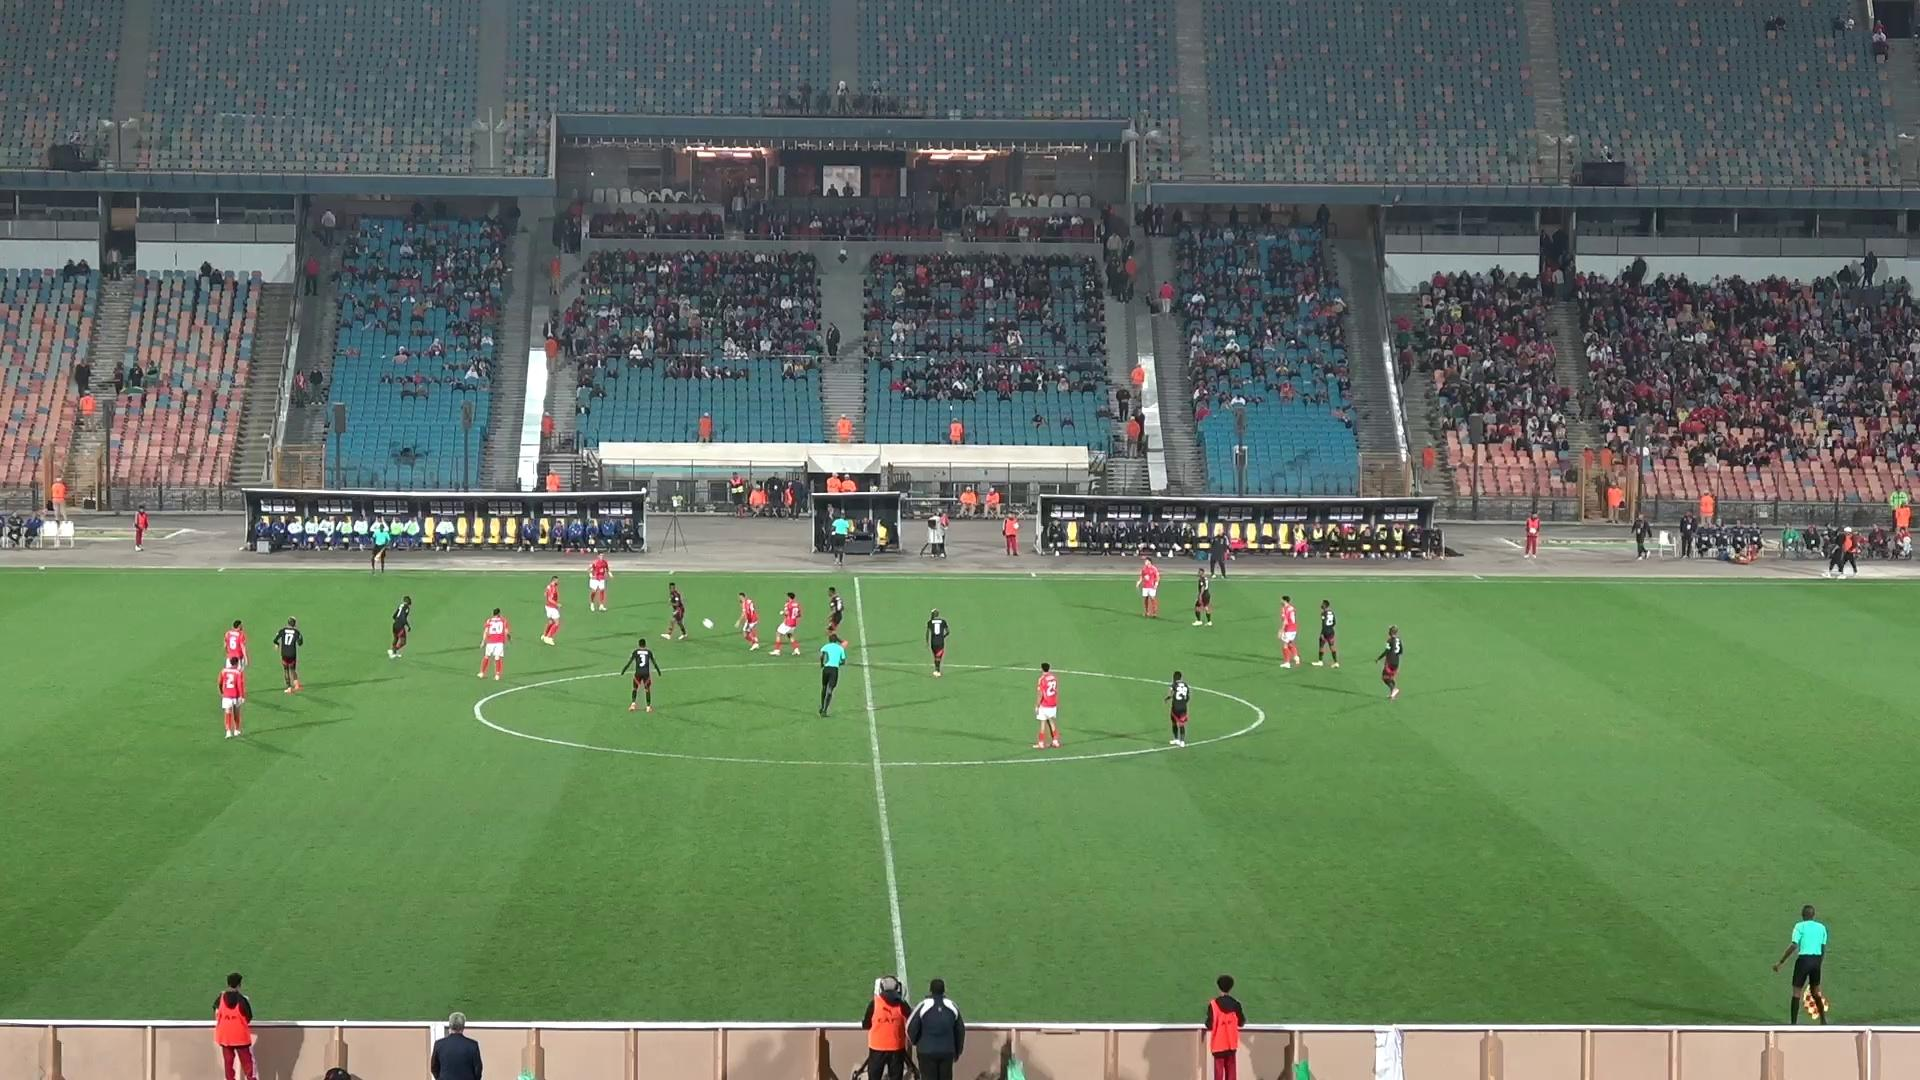Ball: (702, 618, 713, 629)
Refree: (1774, 905, 1829, 1023), (818, 625, 848, 717), (825, 510, 855, 563), (371, 520, 393, 574)
Team1: (1033, 662, 1062, 749), (477, 609, 512, 679), (218, 658, 247, 737), (770, 591, 802, 655), (1276, 595, 1302, 667), (1135, 555, 1160, 617), (541, 575, 562, 646), (223, 618, 251, 670), (736, 592, 760, 650), (588, 554, 612, 611)
Team2: (618, 640, 662, 711), (272, 617, 305, 694), (1374, 625, 1404, 702), (1164, 671, 1193, 746), (1311, 599, 1338, 666), (923, 609, 949, 676), (659, 582, 688, 640), (386, 596, 411, 658), (1192, 571, 1217, 625), (825, 585, 847, 630), (853, 579, 865, 646)
